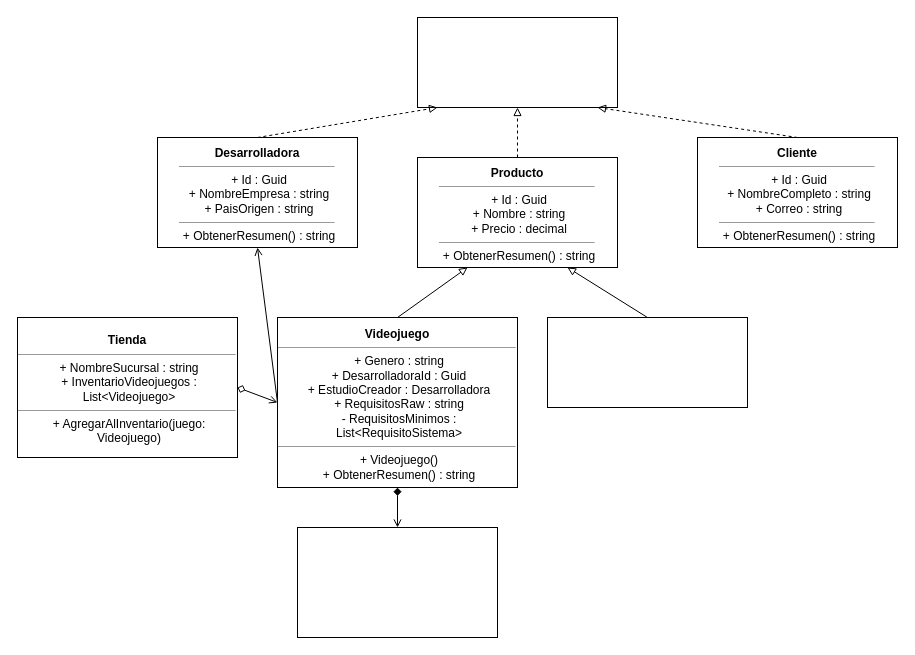
The diagram is 915 pixels wide and 655 high, and some of its shapes have lost their labels. Here are the shapes that lost their labels. From the top down, the centre of each, then its label:
At (x=517, y=62): "IEntidad + Id : Guid + ObtenerResumen() : string".
At (x=647, y=362): "Consola + Fabricante : string + ObtenerResumen() : string".
At (x=397, y=582): "RequisitoSistema + Componente : string + Especificacion : string".
